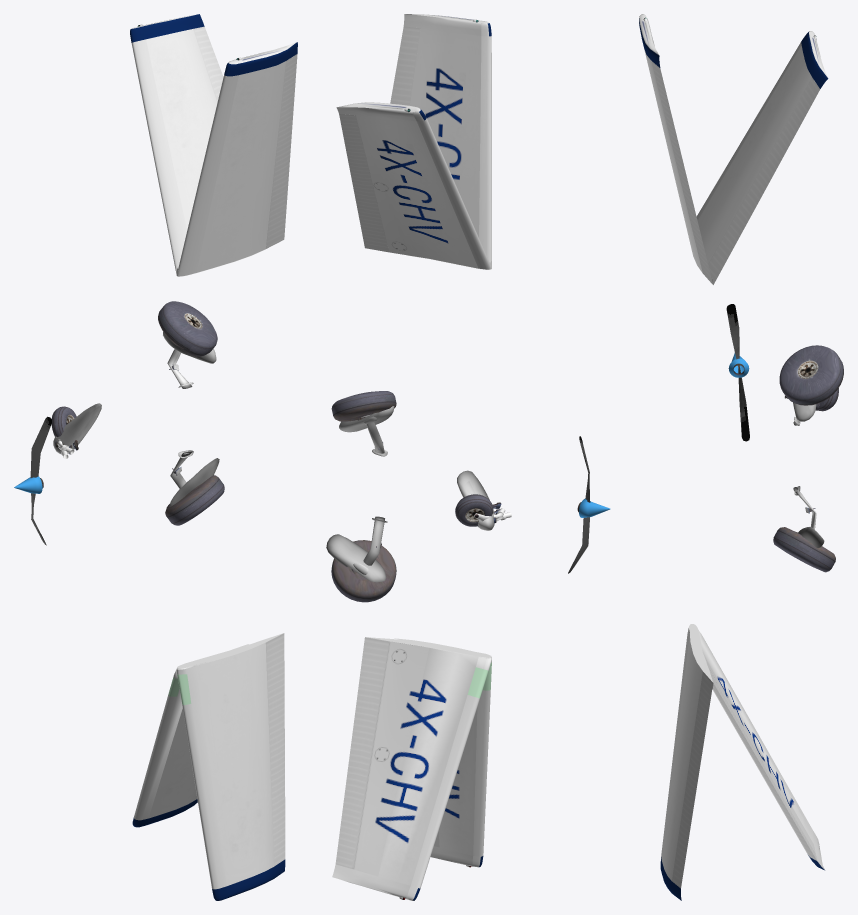
The model's file is c172p-damage.gltf.
3 renders of one model, left to right at view 1: azimuth 30°, elevation 25°; view 2: azimuth 150°, elevation 25°; view 3: azimuth 270°, elevation 25°, orthographic. The views are drawn at different scales.
Visible parts, largest first — view 1: wing_left_D, wing_right_D, wing_right_C, wing_leading_edge_right_C, wing_leading_edge_left_D, leftaileron_D, wing_leading_edge_right_D, wing_left_C, rightaileron_D, wing_leading_edge_left_C, RightWheelBKD, LeftWheelBKD (+4 smaller); view 2: wing_left_C, wing_right_C, wing_right_D, leftaileron_C, wing_left_D, rightaileron_C, wing_leading_edge_right_D, wing_leading_edge_left_C, wing_leading_edge_left_D, wing_leading_edge_right_C, LeftWheelBKD, rightaileron_D (+5 smaller); view 3: wing_right_C, wing_left_D, rightaileron_C, wing_left_C, RightWheelBKD, leftaileron_D, rightaileron_D, wing_right_D, LeftWheelBKD, leftaileron_C, PropellerD, wing_leading_edge_right_C (+1 smaller).
Part boxes in pixels (left/top/right/bottom): wing_left_D: left=196, top=642, right=285, bottom=900; wing_right_D: left=196, top=42, right=297, bottom=272; wing_right_C: left=130, top=14, right=217, bottom=229; wing_leading_edge_right_C: left=131, top=39, right=187, bottom=274; wing_leading_edge_left_D: left=177, top=666, right=226, bottom=889; leftaileron_D: left=265, top=633, right=285, bottom=866; wing_leading_edge_right_D: left=177, top=75, right=238, bottom=276; wing_left_C: left=132, top=640, right=265, bottom=827; rightaileron_D: left=266, top=54, right=297, bottom=248; wing_leading_edge_left_C: left=134, top=665, right=194, bottom=820; RightWheelBKD: left=158, top=301, right=217, bottom=353; LeftWheelBKD: left=165, top=475, right=224, bottom=525; wing_left_C: left=332, top=639, right=478, bottom=900; wing_right_C: left=336, top=102, right=478, bottom=268; wing_right_D: left=403, top=14, right=491, bottom=237; leftaileron_C: left=335, top=637, right=391, bottom=868; wing_left_D: left=395, top=639, right=483, bottom=867; rightaileron_C: left=339, top=114, right=389, bottom=252; wing_leading_edge_right_D: left=479, top=36, right=491, bottom=262; wing_leading_edge_left_C: left=411, top=656, right=491, bottom=888; wing_leading_edge_left_D: left=473, top=660, right=491, bottom=856; wing_leading_edge_right_C: left=417, top=118, right=491, bottom=269; LeftWheelBKD: left=331, top=540, right=396, bottom=602; rightaileron_D: left=390, top=26, right=420, bottom=105; wing_right_C: left=697, top=31, right=828, bottom=263; wing_left_D: left=660, top=634, right=703, bottom=900; rightaileron_C: left=708, top=77, right=820, bottom=284; wing_left_C: left=690, top=631, right=825, bottom=870; RightWheelBKD: left=779, top=345, right=843, bottom=405; leftaileron_D: left=672, top=671, right=713, bottom=888; rightaileron_D: left=651, top=61, right=712, bottom=284; wing_right_D: left=639, top=14, right=702, bottom=272; LeftWheelBKD: left=773, top=527, right=835, bottom=572; leftaileron_C: left=704, top=671, right=816, bottom=860; PropellerD: left=726, top=304, right=749, bottom=441; wing_leading_edge_right_C: left=696, top=42, right=801, bottom=220.
Bounding box in the file's own units: 3.61 × 11.28 × 2.44.
